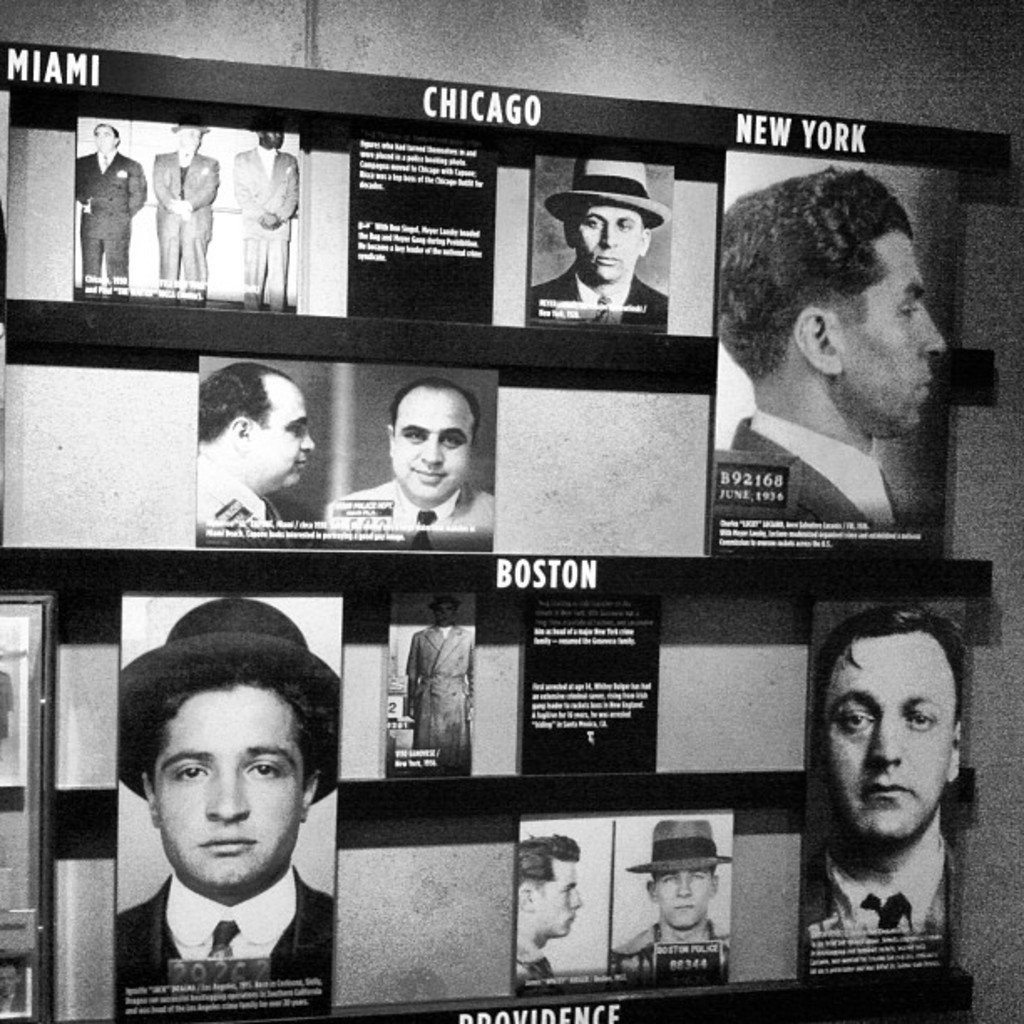Person: (0, 114, 963, 1022)
